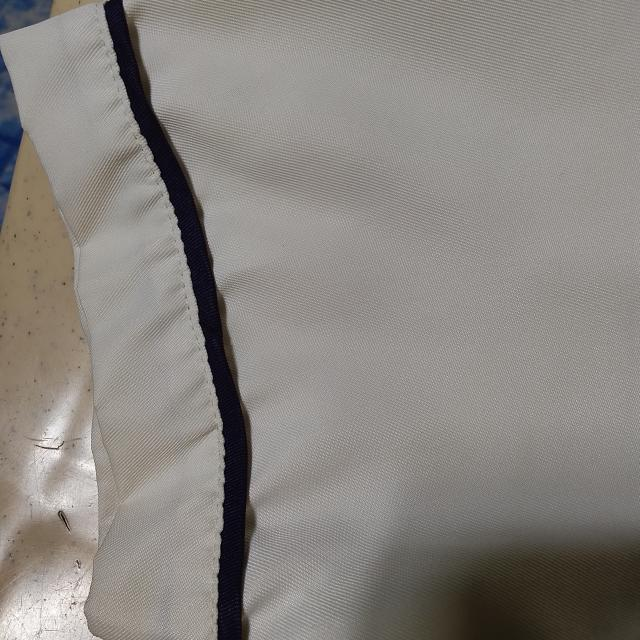education_male_uniform: (9, 7, 640, 640)
